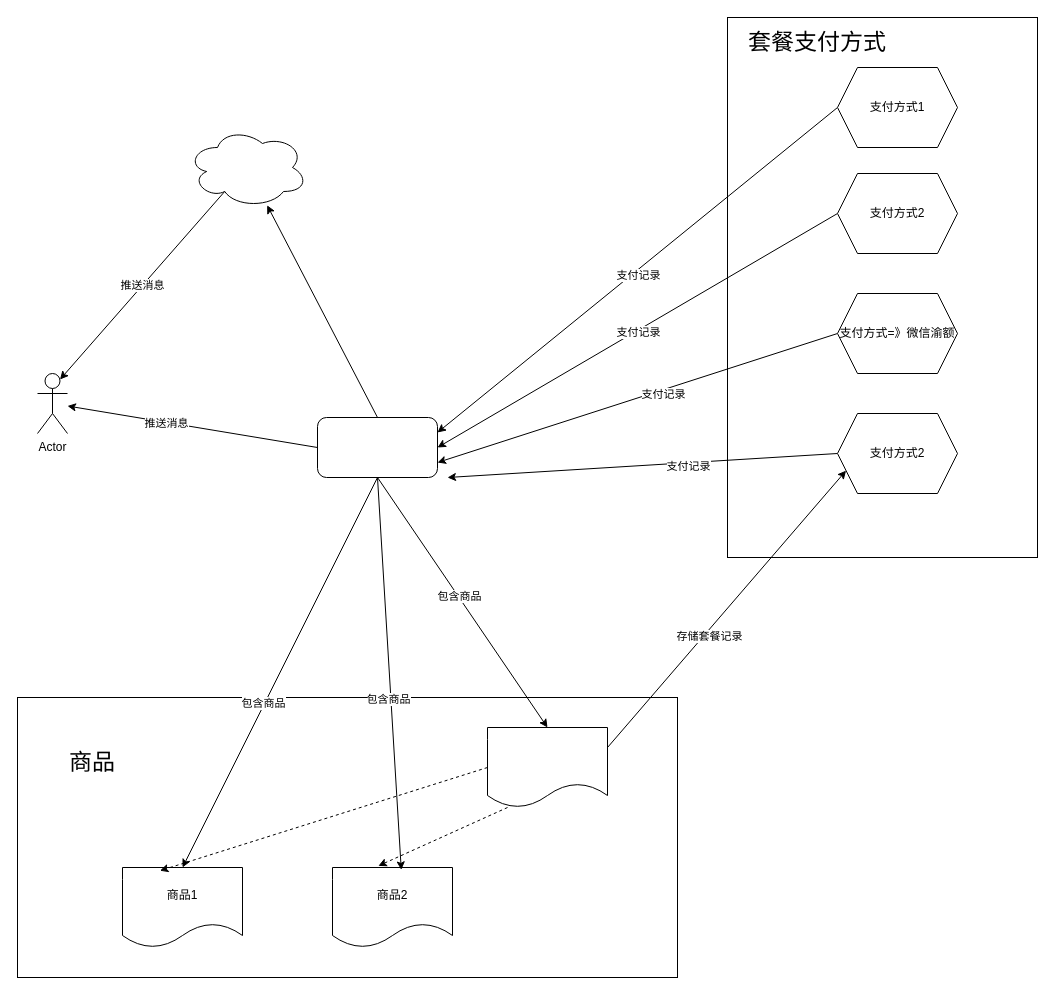
Some shapes in this 1055 by 995 pixel diagram are drawn without their labels. The shapes that lost their labels are listed below. From the top down, each one's centre as x and y in pixels, then its label:
At (247,167): "微信的订单".
At (377,447): "订单".
At (547,767): "充卡".
